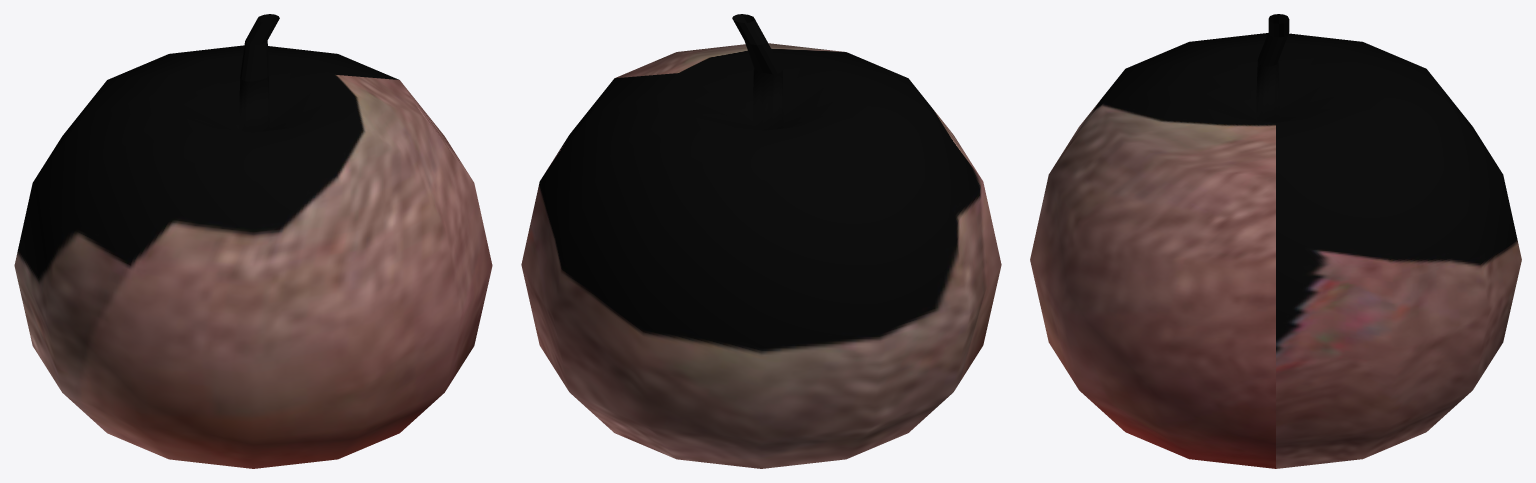
The model's file is apple.fbx.
3 views of the same model, side by side, from view 1: azimuth 30°, elevation 25°; view 2: azimuth 150°, elevation 25°; view 3: azimuth 270°, elevation 25° (orthographic). The views are drawn at different scales.
Parts seen in each view (by area): view 1: apple; view 2: apple; view 3: apple.
Boxes of the visible parts, x1,y1,x2,y2 form: apple: (14, 14, 492, 468); apple: (521, 14, 1001, 468); apple: (1030, 14, 1521, 468).
Bounding box in the file's own units: 22.27 × 20.23 × 22.27.
